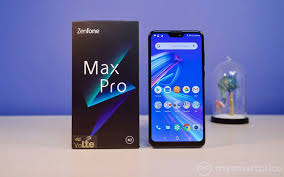asus: (69, 18, 140, 152), (146, 28, 207, 150)
